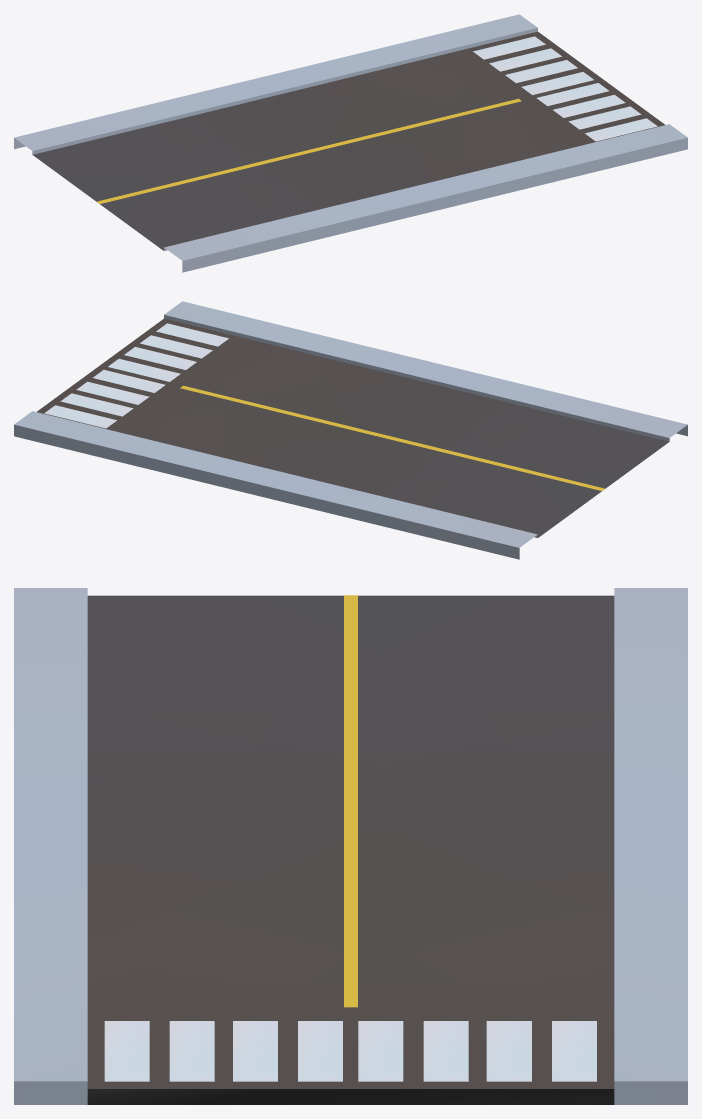
The model's file is road2.fbx.
3 views of the same model, one above another, from view 1: azimuth 30°, elevation 25°; view 2: azimuth 150°, elevation 25°; view 3: azimuth 270°, elevation 25° (orthographic). The views are drawn at different scales.
Visible parts, largest first — view 1: Roads.2; view 2: Roads.2; view 3: Roads.2.
Part boxes in pixels (<box>): Roads.2: <box>14,14,687,272</box>; Roads.2: <box>14,301,687,559</box>; Roads.2: <box>14,588,687,1104</box>.
Bounding box in the file's own units: 843 × 18.71 × 487.
